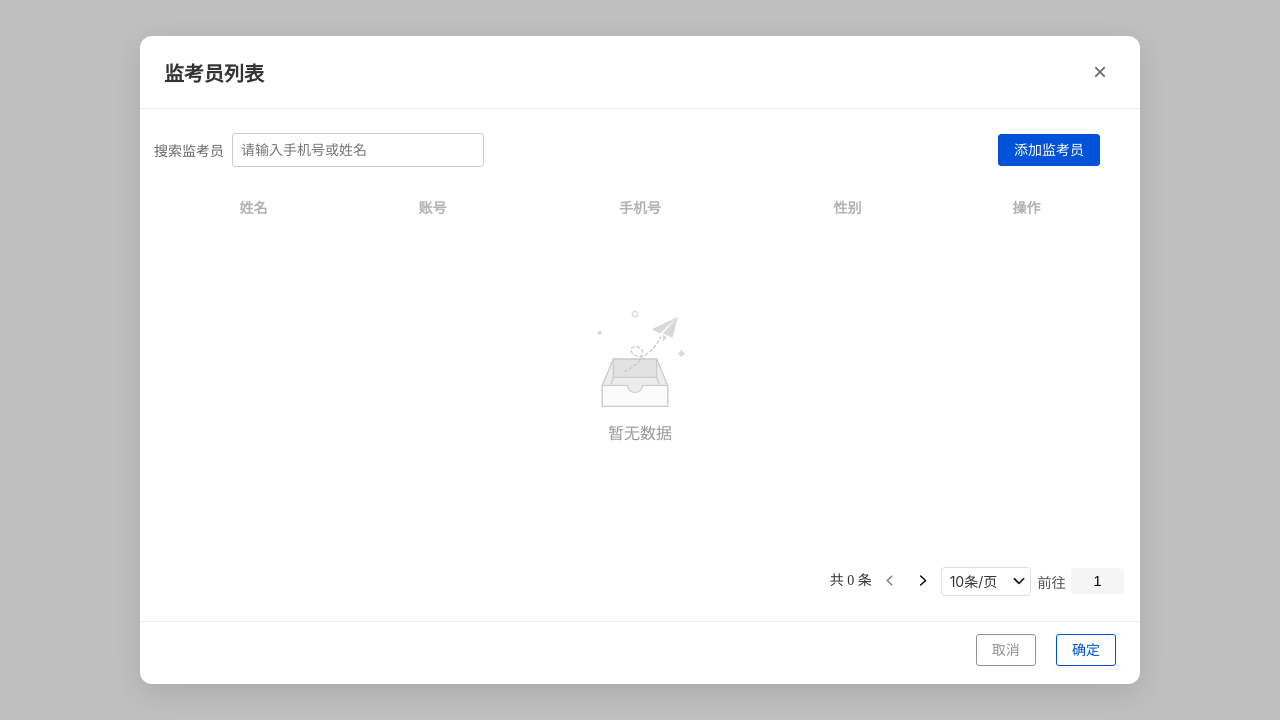
Test case: InvigilatorSelectionPanel 组件测试 › 模式切换功能测试 › 应该正确切换查看模式和选择模式
This screenshot has width=1280, height=720.
Expected: the text "监考员列表" is shown, [164,58,264,86]
Note:  切换到选择模式
What coordinates should you click on to do the following:
click the button "添加监考员"
I would click on:
 (1049, 150)
Its box is [998,134,1100,166].
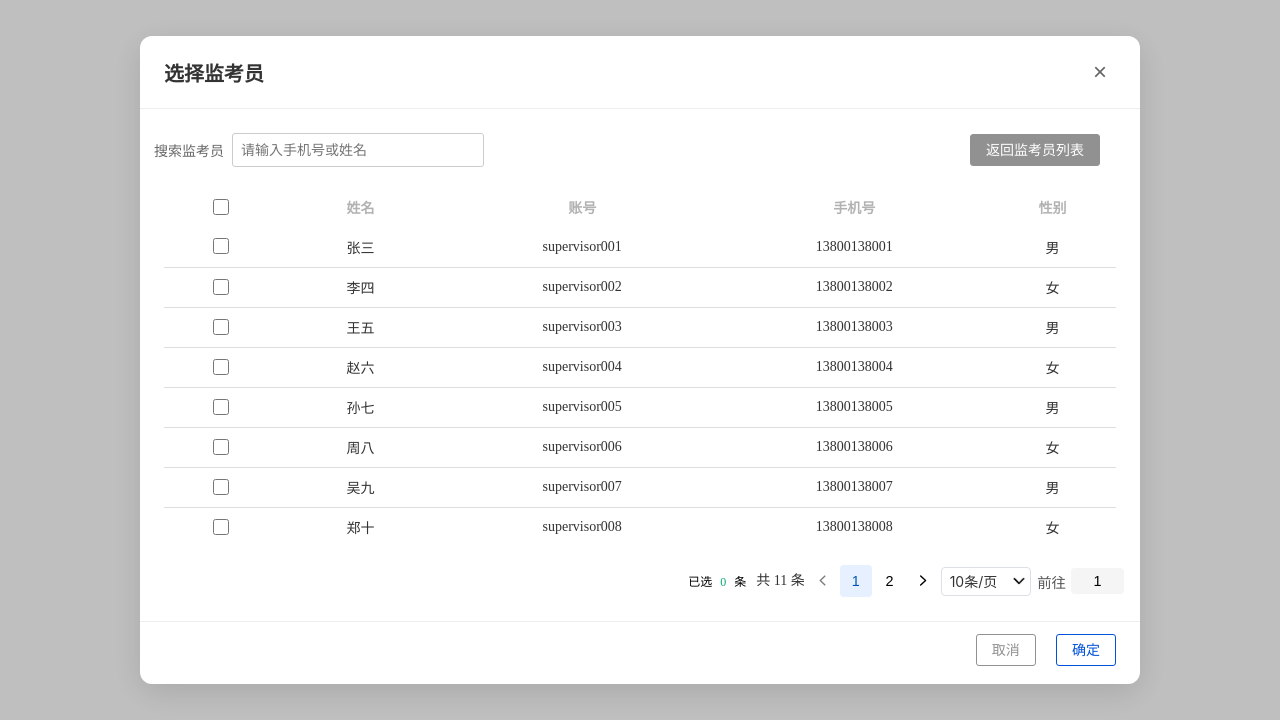
Expected: the text "选择监考员" is shown, [164,58,264,86]
Expected: the button "返回监考员列表" is shown
Note:  切换回查看模式
What coordinates should you click on to do the following:
click the button "返回监考员列表"
I would click on:
 (1035, 150)
Its box is [970,134,1100,166].
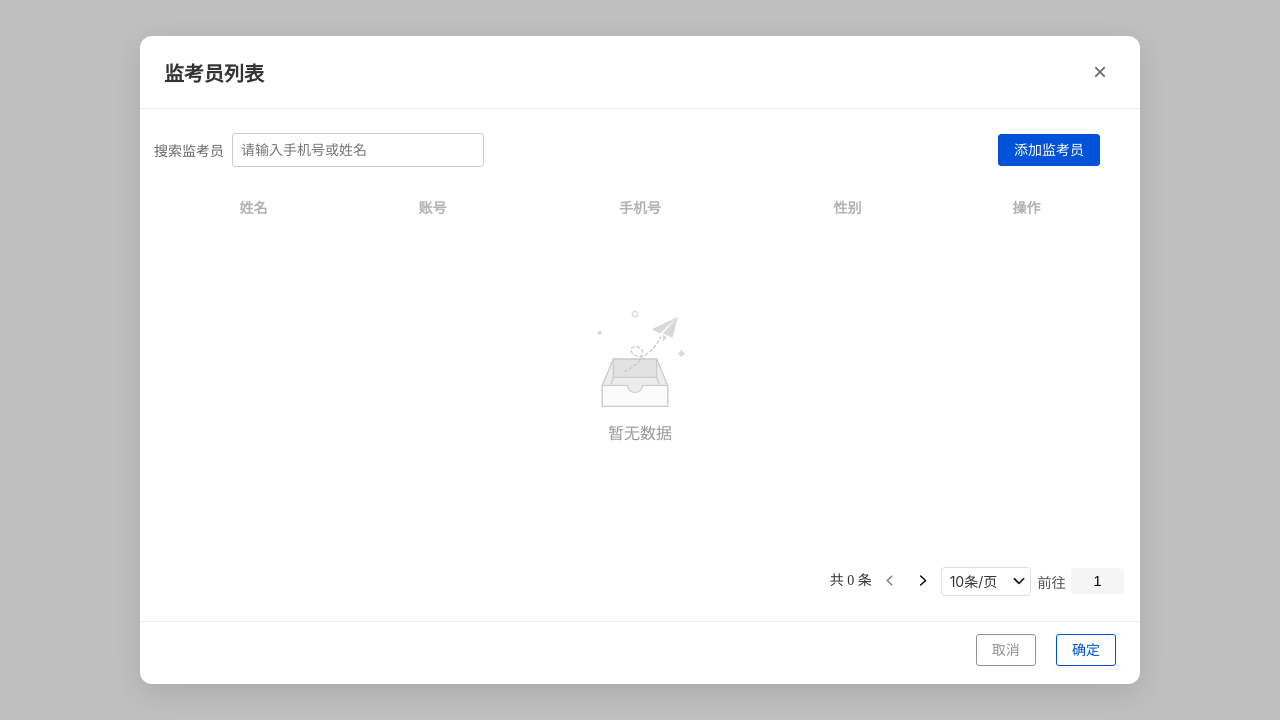
Expected: the text "监考员列表" is shown, [164,58,264,86]
Expected: the button "添加监考员" is shown, [998,134,1100,166]
